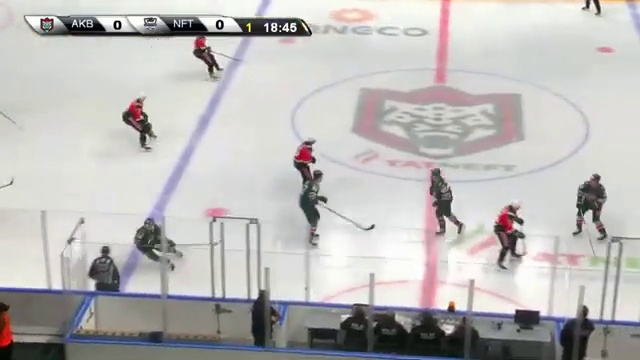gates: (135, 210, 178, 279), (296, 165, 332, 246), (574, 168, 612, 239), (421, 175, 465, 235)
team_1: (83, 245, 120, 291)
team_2: (484, 197, 527, 264), (284, 139, 324, 194), (120, 89, 154, 152), (187, 36, 217, 84)
